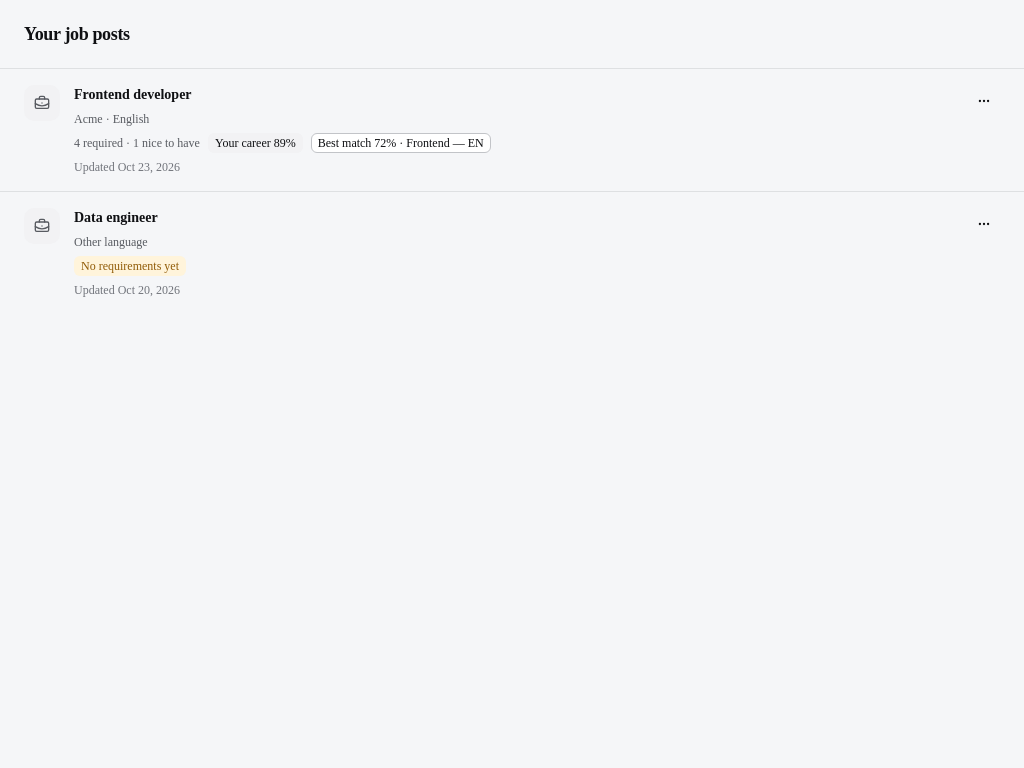
Test: JobPostList › keeps the dialog open with an explanation when the delete fails
Click the button named "More actions for Data engineer" at (984, 224), box [968,208,1000,240]
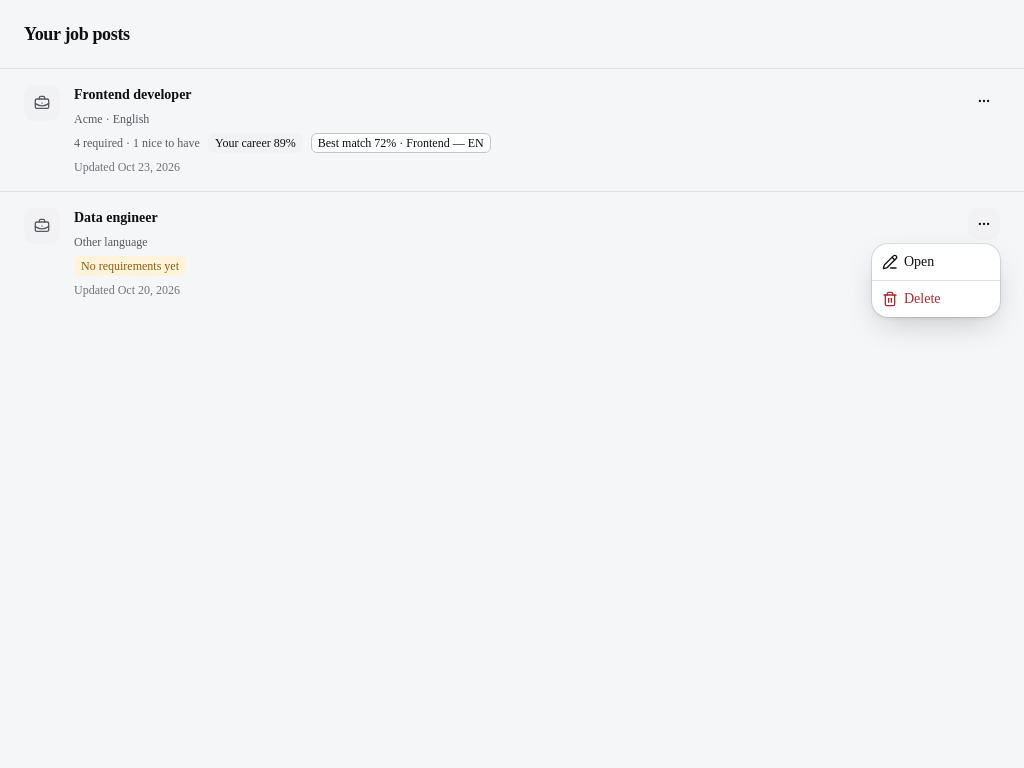
Click the menu item "Delete" at (911, 299), box [882,291,940,307]
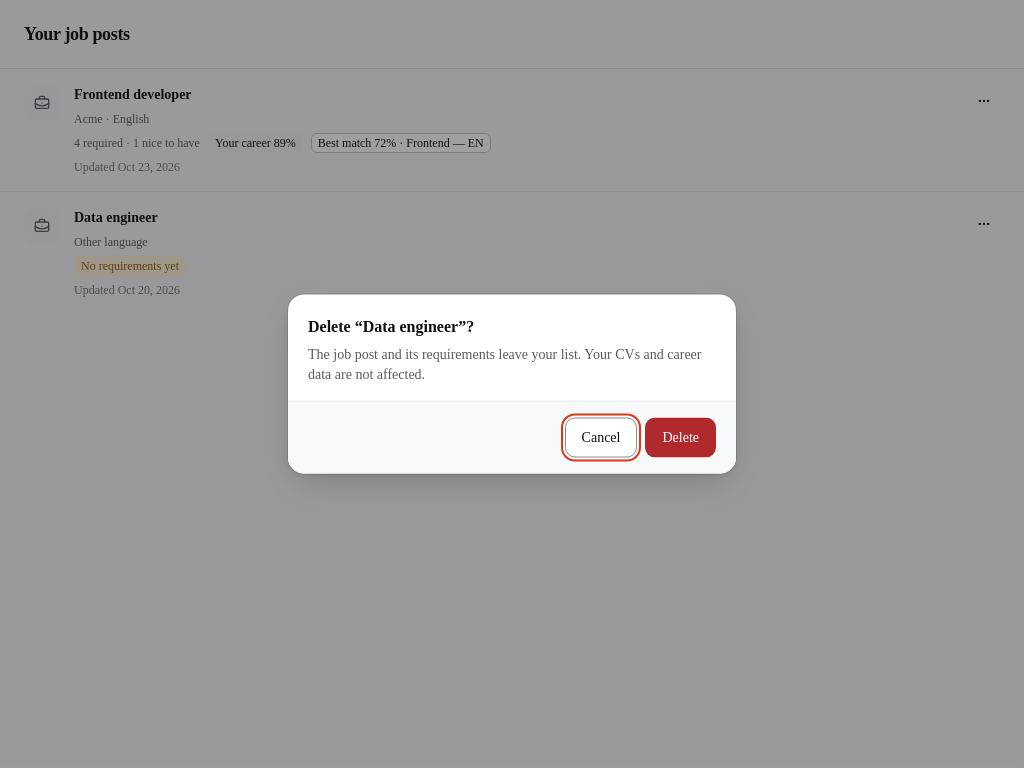
Click the button "Delete" at (681, 438), box [646,418,716,458]
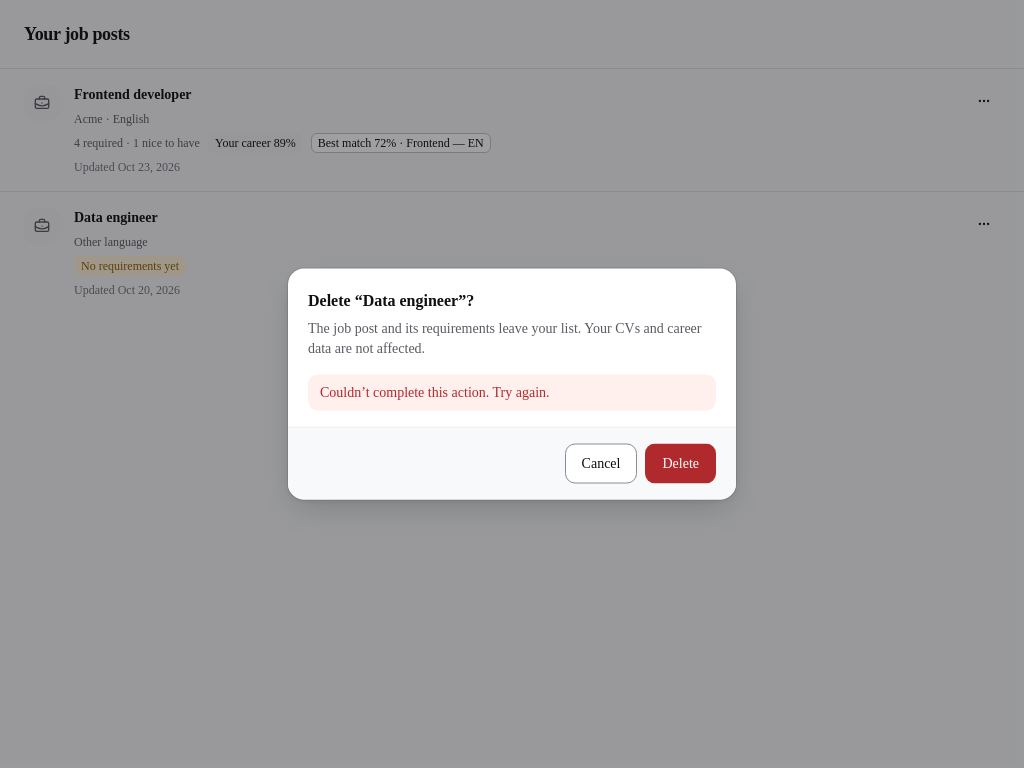
expect the text "Couldn’t complete this action. Try again." is shown: met, box [308,374,716,410]
